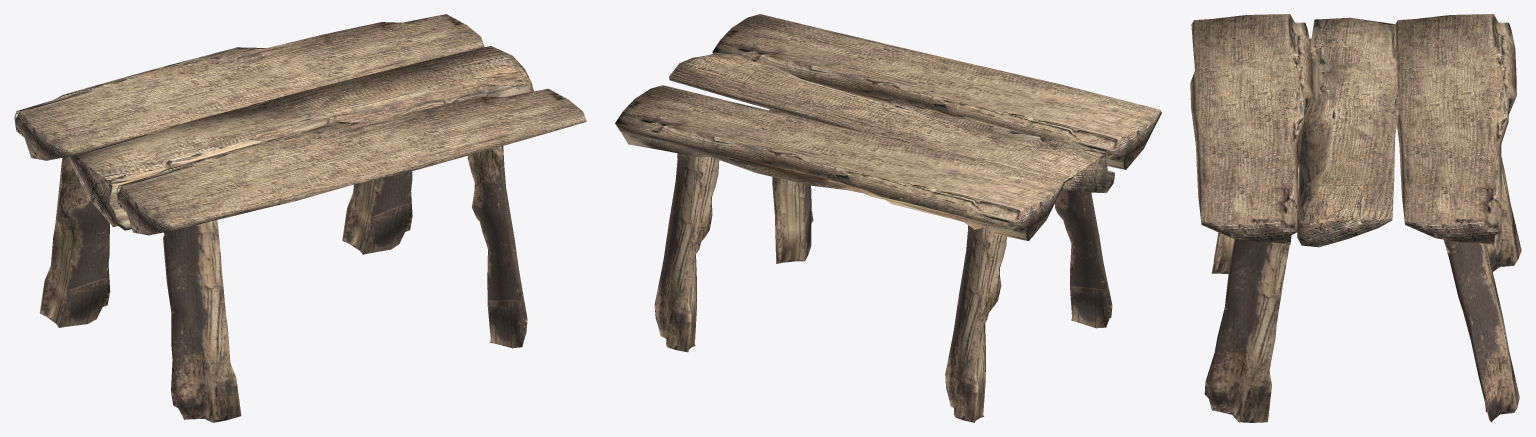
Rendered from Table1.fbx.
3 views of the same model, side by side, from view 1: azimuth 30°, elevation 25°; view 2: azimuth 150°, elevation 25°; view 3: azimuth 270°, elevation 25° (orthographic). The views are drawn at different scales.
Visible parts, largest first — view 1: table1_lod0; view 2: table1_lod0; view 3: table1_lod0.
Boxes of the visible parts, x1,y1,x2,y2 form: table1_lod0: (14,14,586,422); table1_lod0: (615,14,1161,422); table1_lod0: (1190,14,1521,422).
Size of what is drawn, in the model's own units: 205 by 106 by 137.
